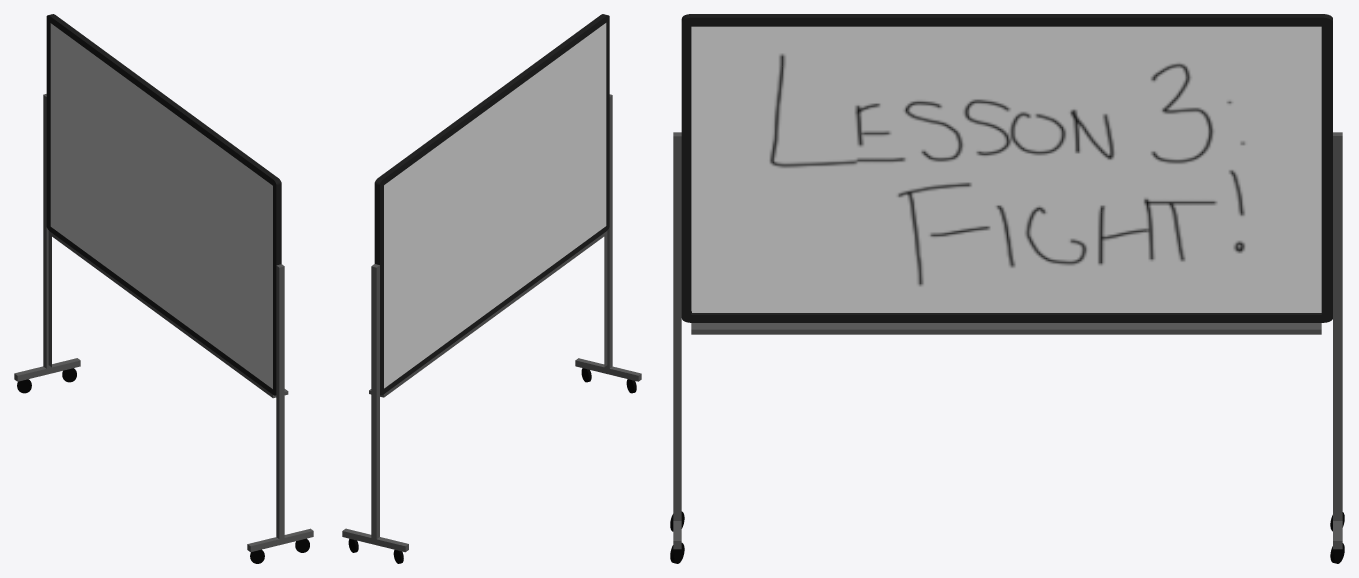
The model's file is Whiteboard Lesson3.fbx.
3 renders of one model, left to right at view 1: azimuth 30°, elevation 25°; view 2: azimuth 150°, elevation 25°; view 3: azimuth 270°, elevation 25°, orthographic. The views are drawn at different scales.
Visible parts, largest first — view 1: Whiteboard; view 2: Whiteboard; view 3: Whiteboard.
Part boxes in pixels (x1,y1,x2,y2): Whiteboard: (14, 14, 313, 552); Whiteboard: (342, 14, 641, 552); Whiteboard: (673, 14, 1342, 549).
Size of the model in its own units: 49.07 by 279 by 320.
